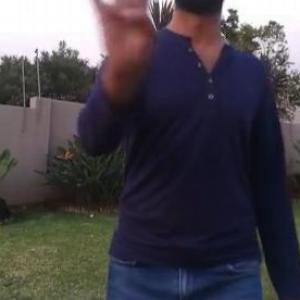takeoff-hand: (74, 0, 164, 76)
